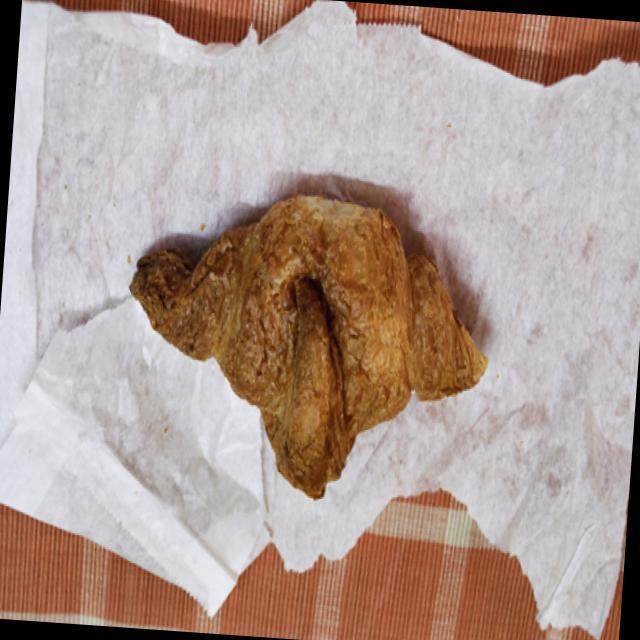Croissant: (122, 158, 488, 520)
